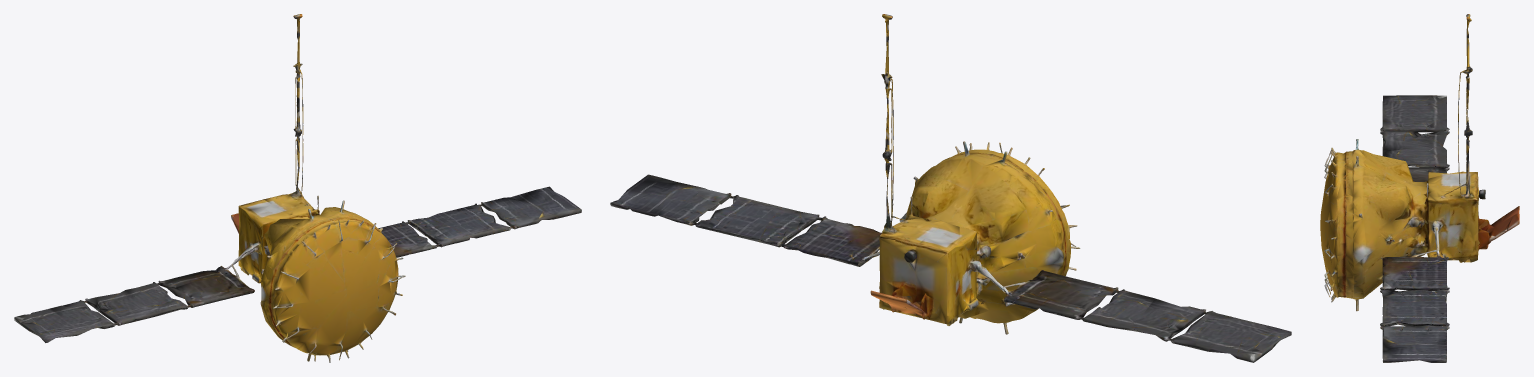
The model's file is smile-low.glb.
3 renders of one model, left to right at view 1: azimuth 30°, elevation 25°; view 2: azimuth 150°, elevation 25°; view 3: azimuth 270°, elevation 25°, orthographic. The views are drawn at different scales.
Size of the model in its own units: 1.9 by 0.9991 by 0.6052.
1 material, 1 textured.
